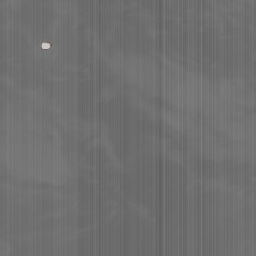Target: (39, 40, 53, 52)
